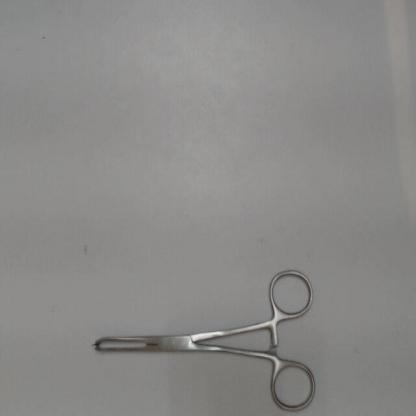Allis Tissue Forceps: (80, 261, 322, 414)
